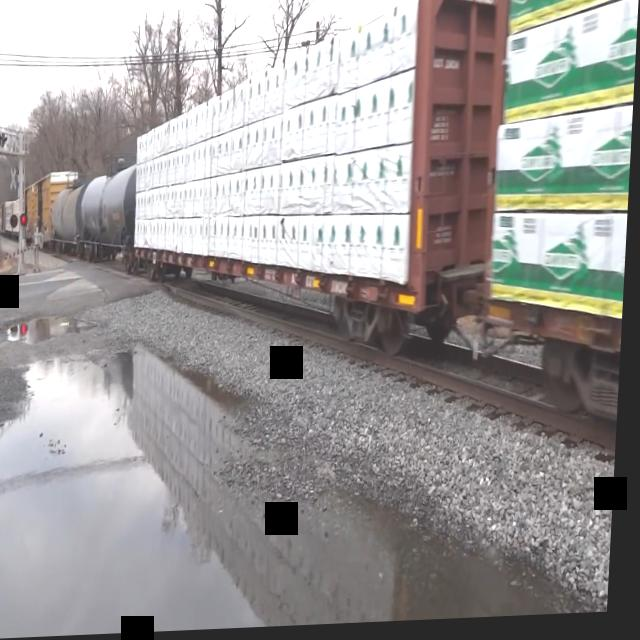cargo: (133, 0, 419, 300)
flatcar_bulkhead: (125, 0, 510, 365), (461, 0, 640, 457)
tank: (75, 158, 142, 273)
